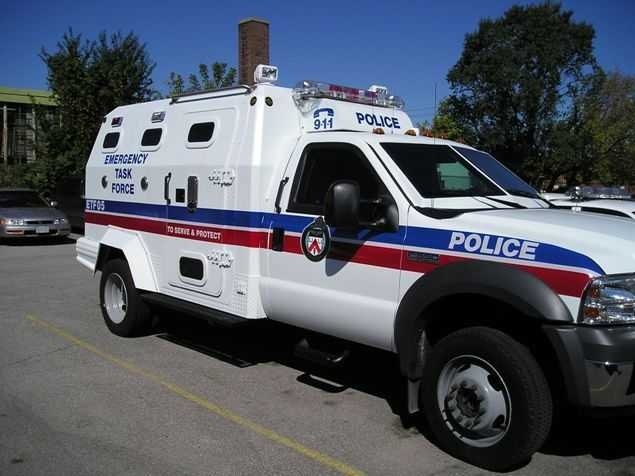Police Van: (79, 58, 635, 445)
